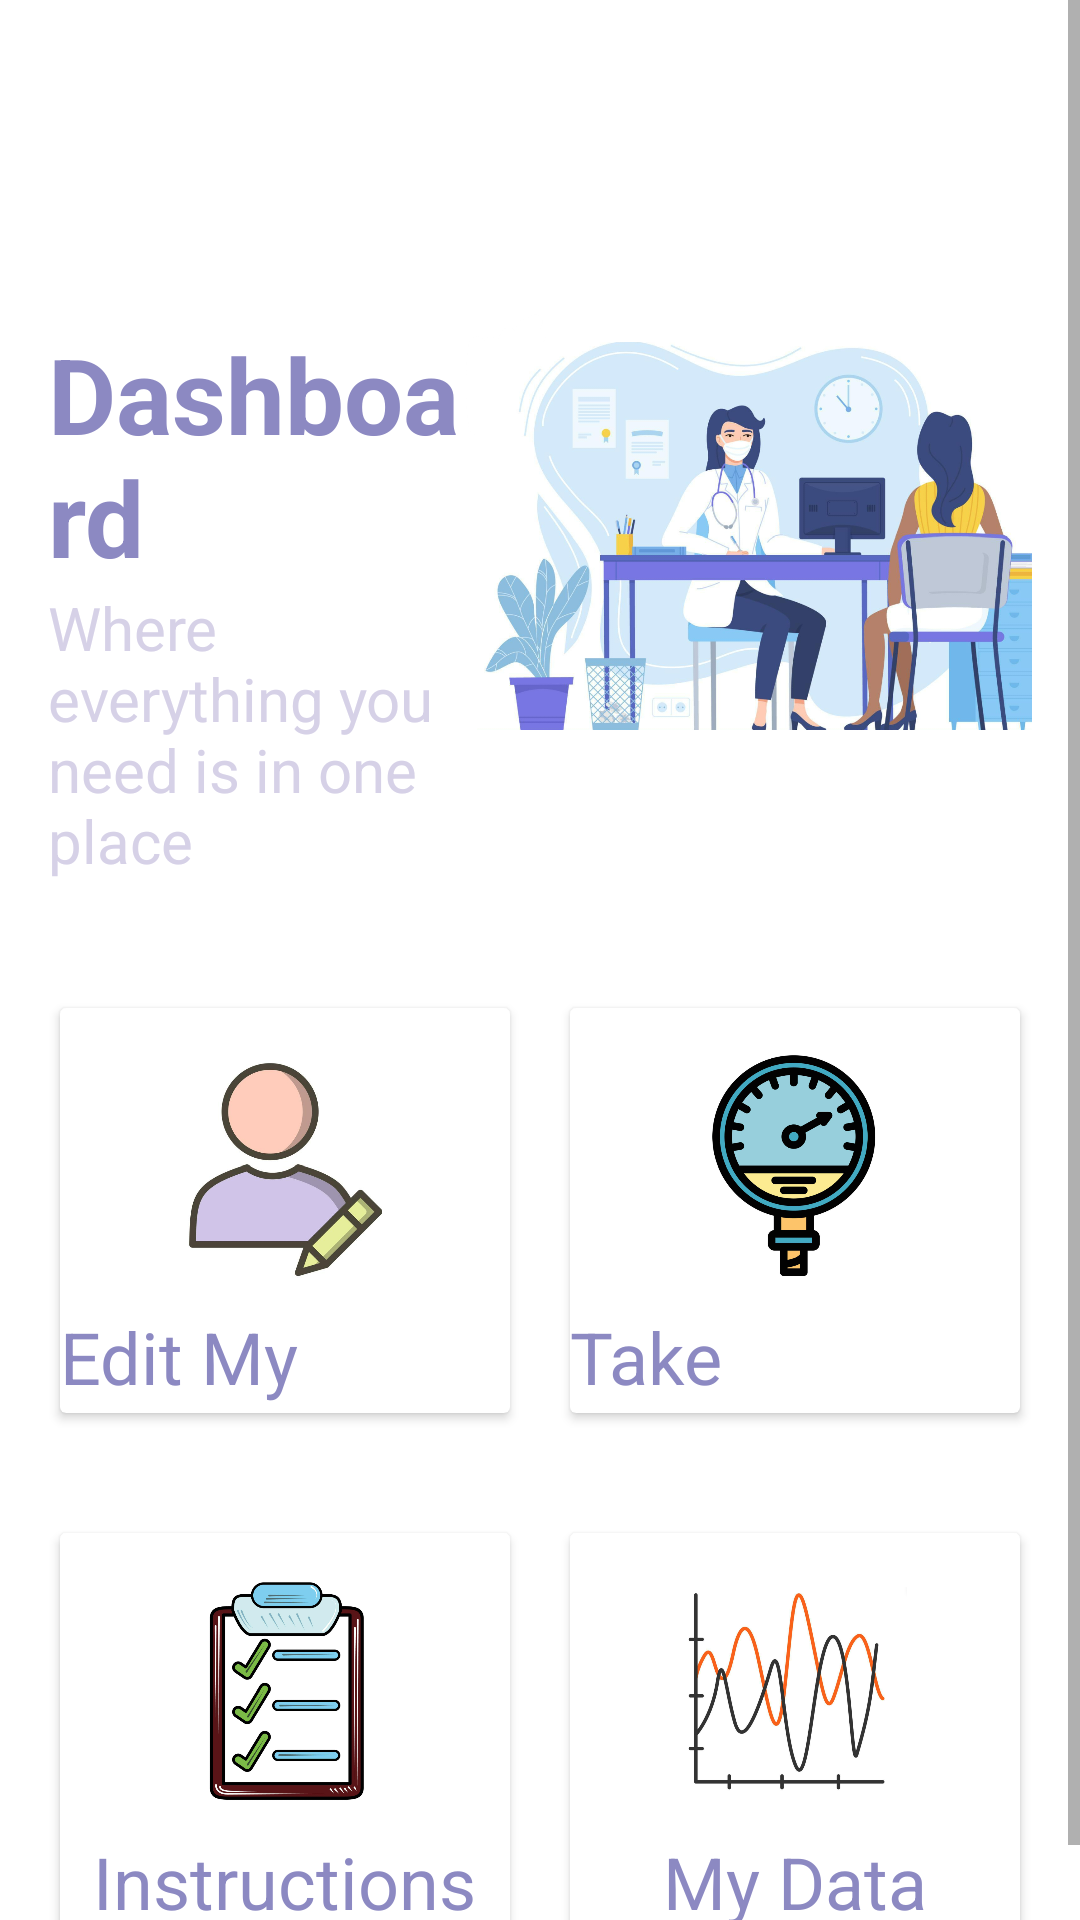

Where icons sit on this 1080w x 1920h app screen, as (x1, y1, x2, y2):
data graph: (688, 1593, 885, 1790)
